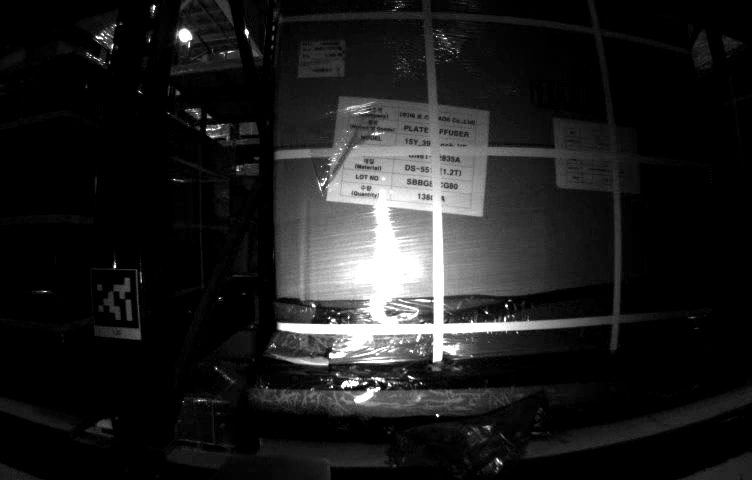True Barcode: (299, 42, 346, 80)
